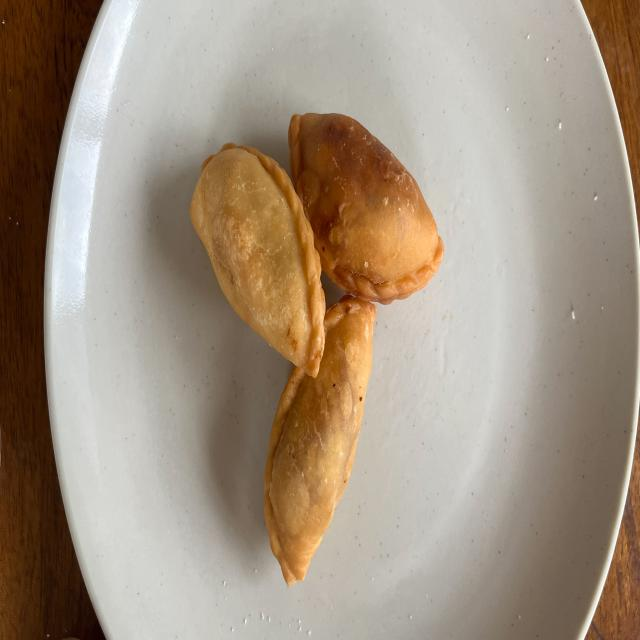karipap: (264, 296, 376, 587), (190, 142, 325, 376), (289, 113, 444, 304)
